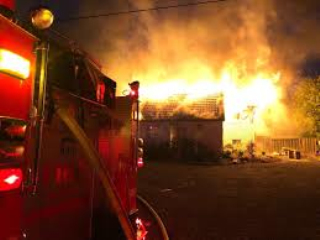fire: (113, 49, 285, 135)
